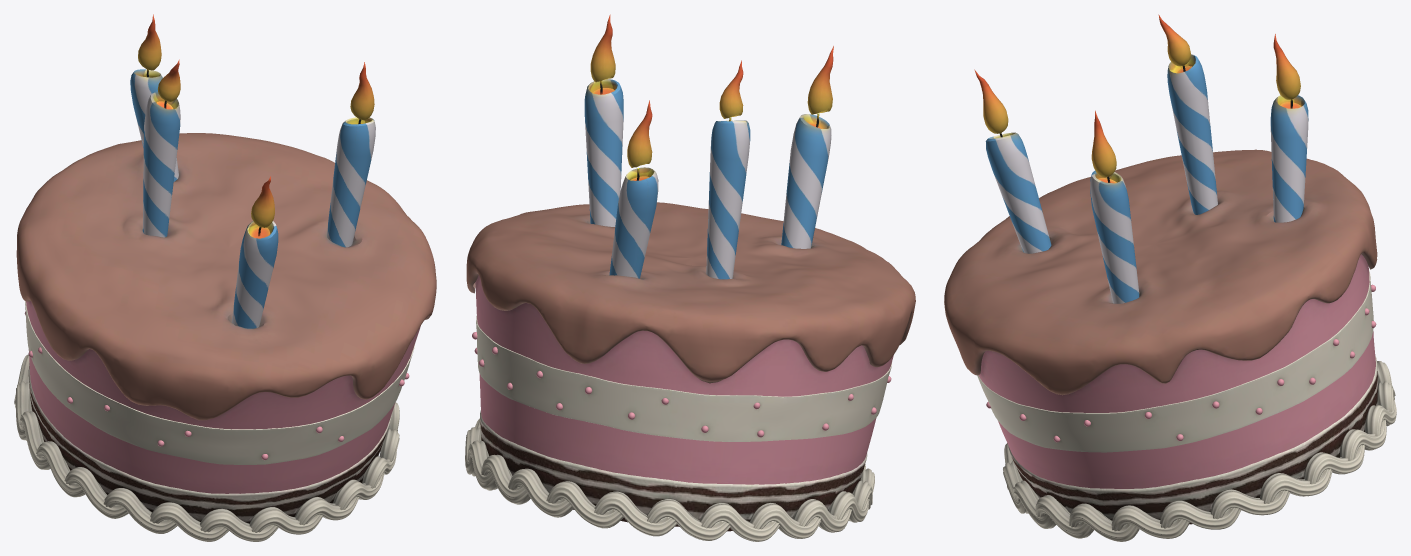
Rendered from cake.glb.
The picture shows the model from 3 angles, left to right: view 1: azimuth 30°, elevation 25°; view 2: azimuth 150°, elevation 25°; view 3: azimuth 270°, elevation 25°; orthographic projection. The views are drawn at different scales.
Visible parts, largest first — view 1: node_id40; view 2: node_id40; view 3: node_id40.
Boxes of the visible parts, x1,y1,x2,y2 form: node_id40: (14,14,436,541); node_id40: (465,14,915,541); node_id40: (944,14,1396,541).
Size of the model in its own units: 0.4917 by 0.5597 by 0.5091.
1 material, 1 textured.
